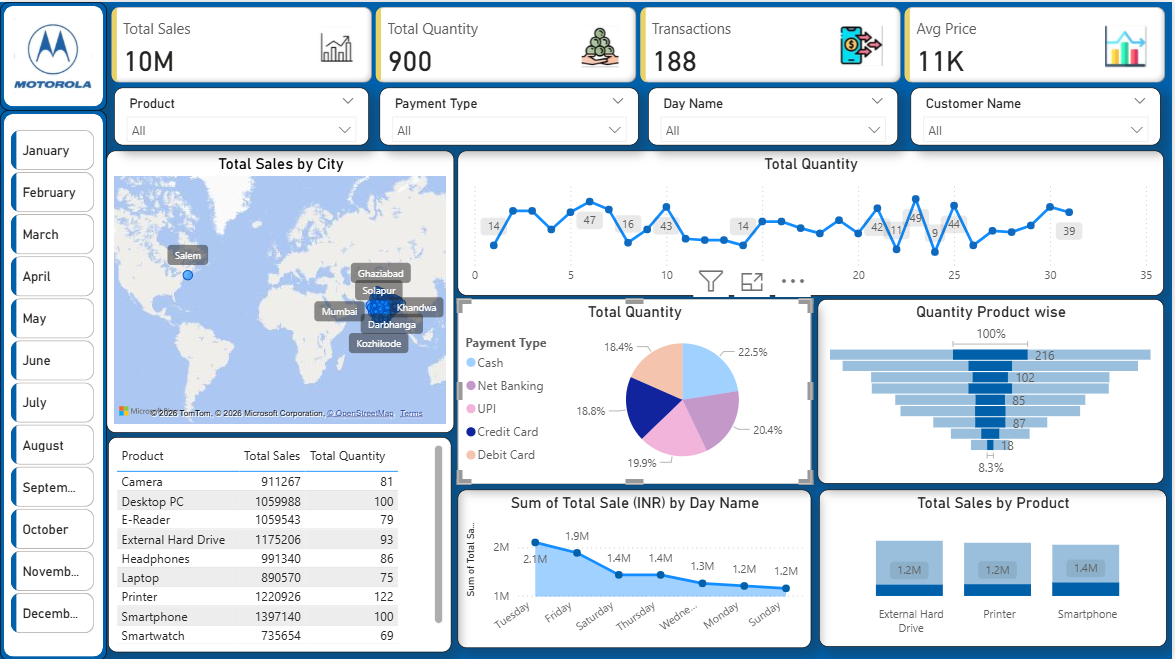

The dashboard page shown, as its layout file describes it:
{"tool":"powerbi","page":{"name":"Page 1","canvas":[1280,720],"ordinal":0},"visuals":[{"type":"shape","box":[0,0,116.7,118.3],"z":0},{"type":"image","box":[10,11.7,95,95],"z":1000},{"type":"shape","box":[0,118.3,116.7,601.7],"z":1001},{"type":"advancedSlicerVisual","fields":{"Values":["Sales_Data.Sales Date.Variation.Date Hierarchy.Month"]},"box":[6.7,135,101.7,570],"z":1002},{"type":"cardVisual","fields":{"Data":["Sales_Data.Total Sales","Sales_Data.Total Quantity","Sales_Data.Transactions","Sales_Data.Avg Price"]},"box":[116.7,0,1163.3,93.3],"z":1003},{"type":"map","fields":{"Category":["Sales_Data.City"],"Size":["Sales_Data.Total Sales"]},"box":[116.7,161.7,380,308.3],"z":1004},{"type":"lineChart","title":"Total Quantity","fields":{"Category":["Sales_Data.Sales Date.Variation.Date Hierarchy.Month","Sales_Data.Sales Date.Variation.Date Hierarchy.Day"],"Y":["Sales_Data.Total Quantity"]},"box":[500,161.7,771.7,158.3],"z":1005},{"type":"clusteredColumnChart","title":"Total Sales by Product","fields":{"Y":["Sum(Sales_Data.Total Sale (INR))"],"Category":["Sales_Data.Product"]},"box":[895,533.3,380,171.7],"z":1006},{"type":"pieChart","title":"Total Quantity","fields":{"Category":["Sales_Data.Payment Type"],"Y":["Sales_Data.Transactions"]},"box":[500,325,386.7,201.7],"z":1007},{"type":"funnel","title":"Quantity Product wise","fields":{"Category":["Sales_Data.Quantity"],"Y":["Sum(Sales_Data.Quantity)"]},"box":[893.3,325,378.3,201.7],"z":1008},{"type":"areaChart","fields":{"Category":["Sales_Data.Day Name"],"Y":["Sum(Sales_Data.Total Sale (INR))"]},"box":[500,533.3,386.7,173.3],"z":1009},{"type":"tableEx","title":"Total Quantity","fields":{"Values":["Sales_Data.Product","Sales_Data.Total Sales","Sales_Data.Total Quantity"]},"box":[118.3,475,375,235],"z":1010},{"type":"slicer","fields":{"Values":["Sales_Data.Product"]},"box":[125,93.3,278.3,63.3],"z":1011},{"type":"slicer","fields":{"Values":["Sales_Data.Payment Type"]},"box":[415,93.3,283.3,63.3],"z":1012},{"type":"slicer","fields":{"Values":["Sales_Data.Day Name"]},"box":[708.3,93.3,273.3,63.3],"z":1013},{"type":"slicer","fields":{"Values":["Sales_Data.Customer Name"]},"box":[995,93.3,273.3,63.3],"z":1014}]}

Visuals, with their boxes in screenshot pixels (x1, y1, x2, y2), scaled from the page's 1280x720 canvas onto the 1175x659 screenshot:
shape: 0, 0, 107, 108
image: 9, 11, 96, 98
shape: 0, 108, 107, 658
advancedSlicerVisual - Sales_Data.Sales Date.Variation.Date Hierarchy.Month: 6, 124, 100, 645
cardVisual - Sales_Data.Total Sales x Sales_Data.Total Quantity: 107, 0, 1174, 85
map - Sales_Data.City x Sales_Data.Total Sales: 107, 148, 456, 430
"Total Quantity" lineChart: 459, 148, 1167, 293
"Total Sales by Product" clusteredColumnChart: 822, 488, 1170, 645
"Total Quantity" pieChart: 459, 297, 814, 482
"Quantity Product wise" funnel: 820, 297, 1167, 482
areaChart - Sales_Data.Day Name x Sum(Sales_Data.Total Sale (INR)): 459, 488, 814, 647
"Total Quantity" tableEx: 109, 435, 453, 650
slicer - Sales_Data.Product: 115, 85, 370, 143
slicer - Sales_Data.Payment Type: 381, 85, 641, 143
slicer - Sales_Data.Day Name: 650, 85, 901, 143
slicer - Sales_Data.Customer Name: 913, 85, 1164, 143
